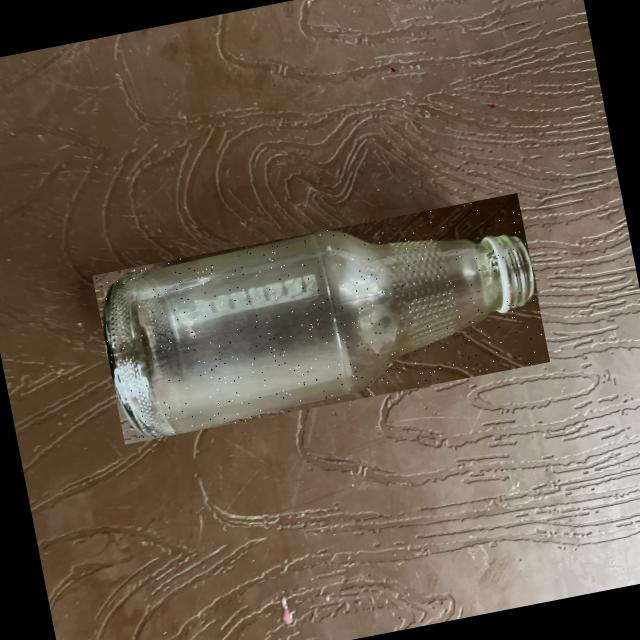Glass_Bottle: (103, 231, 533, 437)
